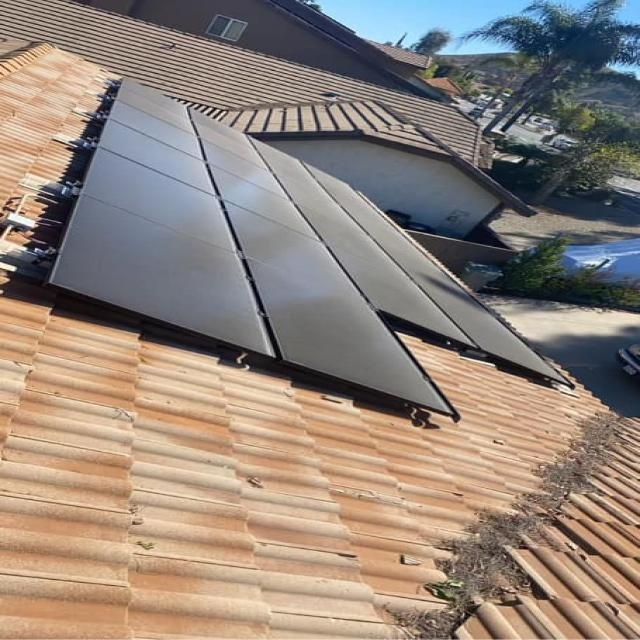dust-solar-panel: (48, 79, 576, 416)
